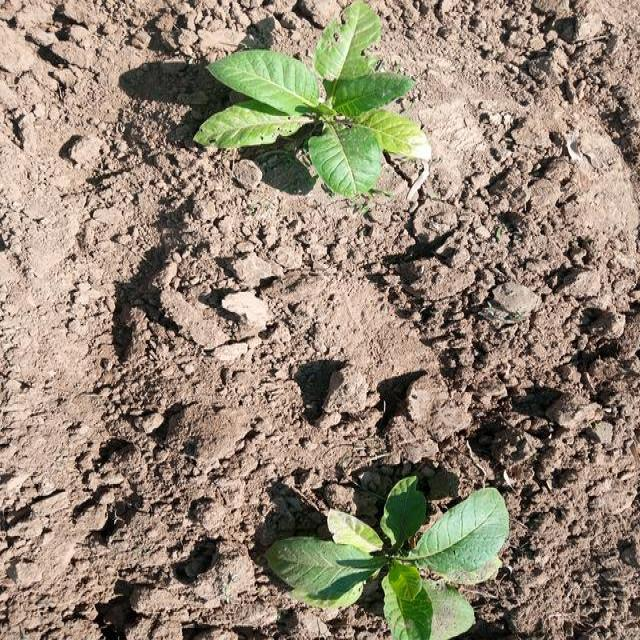crop: (204, 9, 434, 203), (272, 479, 512, 640)
